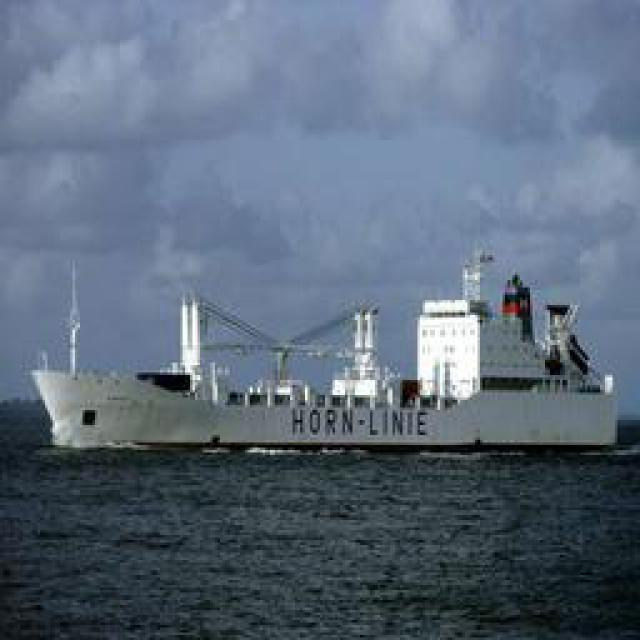Ship: (28, 292, 633, 462)
